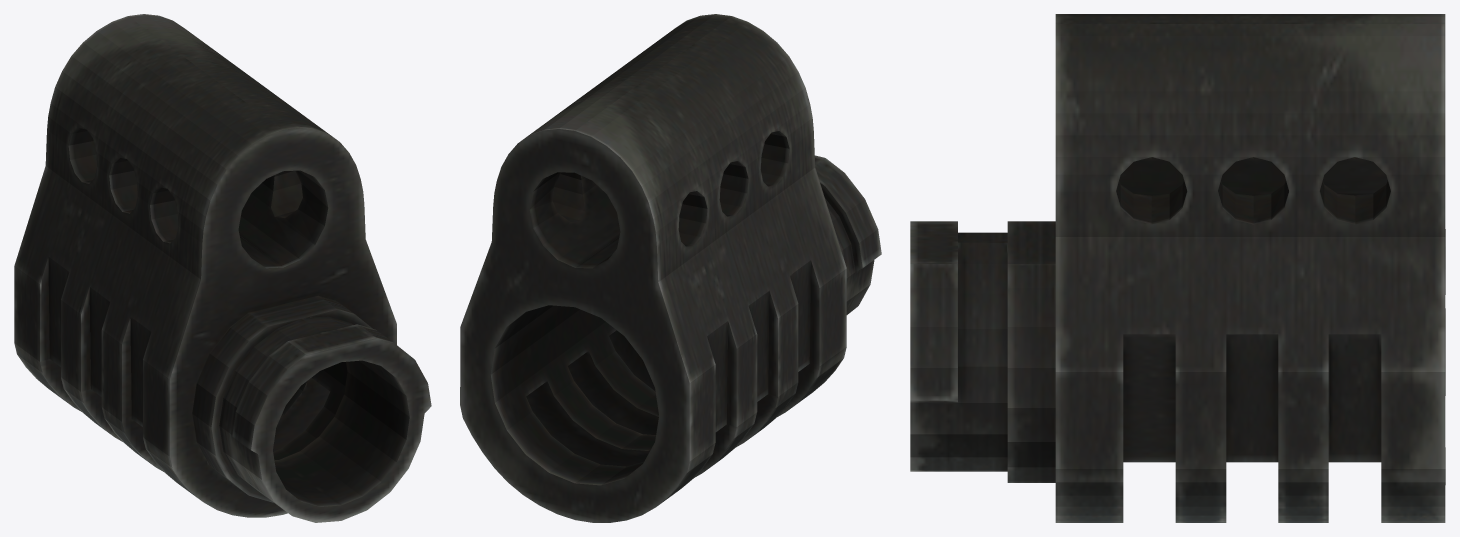
The picture shows the model from 3 angles, left to right: view 1: azimuth 30°, elevation 25°; view 2: azimuth 150°, elevation 25°; view 3: azimuth 270°, elevation 25°; orthographic projection. The views are drawn at different scales.
Visible parts, largest first — view 1: TW_5bffd7ed0db834001d23ebf9_PZ_Import; view 2: TW_5bffd7ed0db834001d23ebf9_PZ_Import; view 3: TW_5bffd7ed0db834001d23ebf9_PZ_Import.
Part boxes in pixels (<box>): TW_5bffd7ed0db834001d23ebf9_PZ_Import: <box>14,14,431,522</box>; TW_5bffd7ed0db834001d23ebf9_PZ_Import: <box>460,14,881,522</box>; TW_5bffd7ed0db834001d23ebf9_PZ_Import: <box>910,14,1445,522</box>.
Bounding box in the file's own units: 0.0114 × 0.0185 × 0.0184.
1 material, 1 textured.
